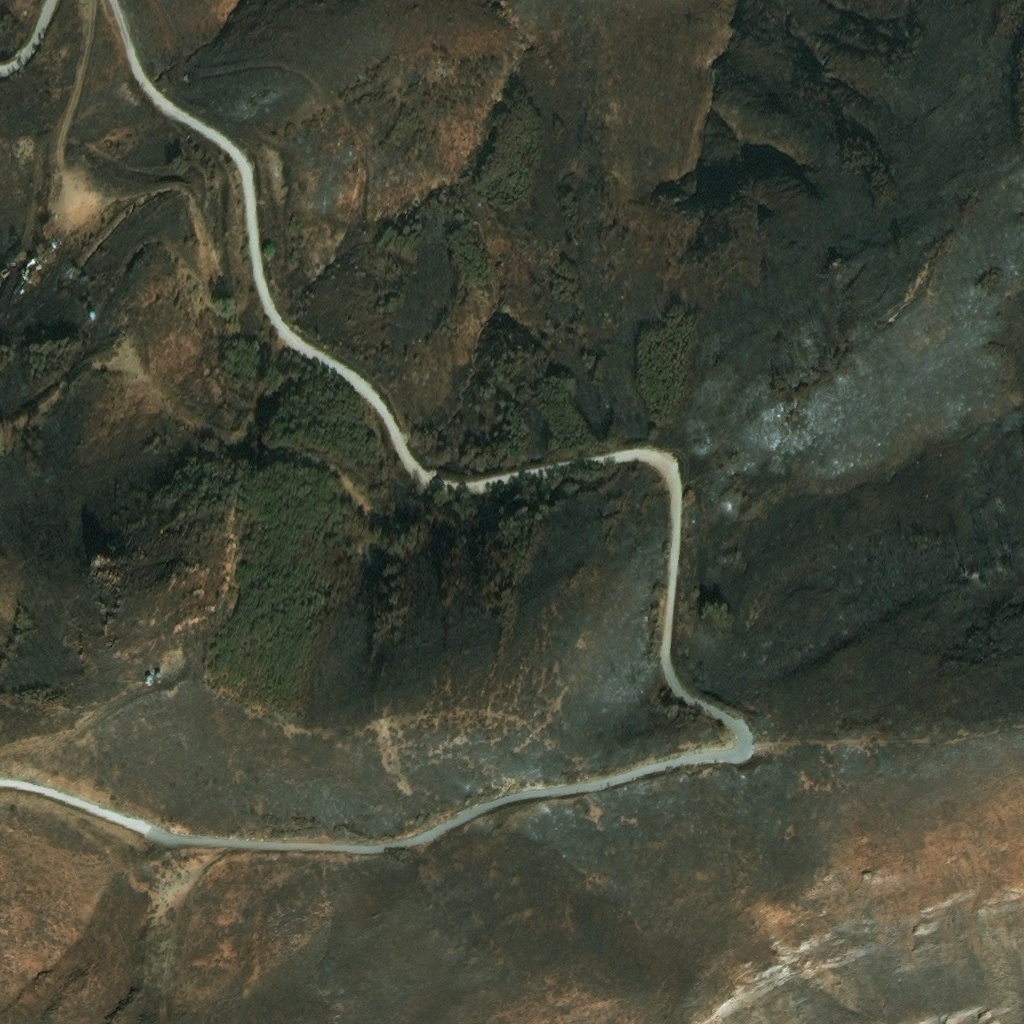1 minor-damage: (143, 676, 154, 687), (154, 674, 164, 684), (87, 311, 95, 319)
3 destroyed: (15, 249, 44, 280), (67, 259, 82, 276), (50, 231, 65, 246), (0, 262, 13, 275), (19, 284, 27, 291)
